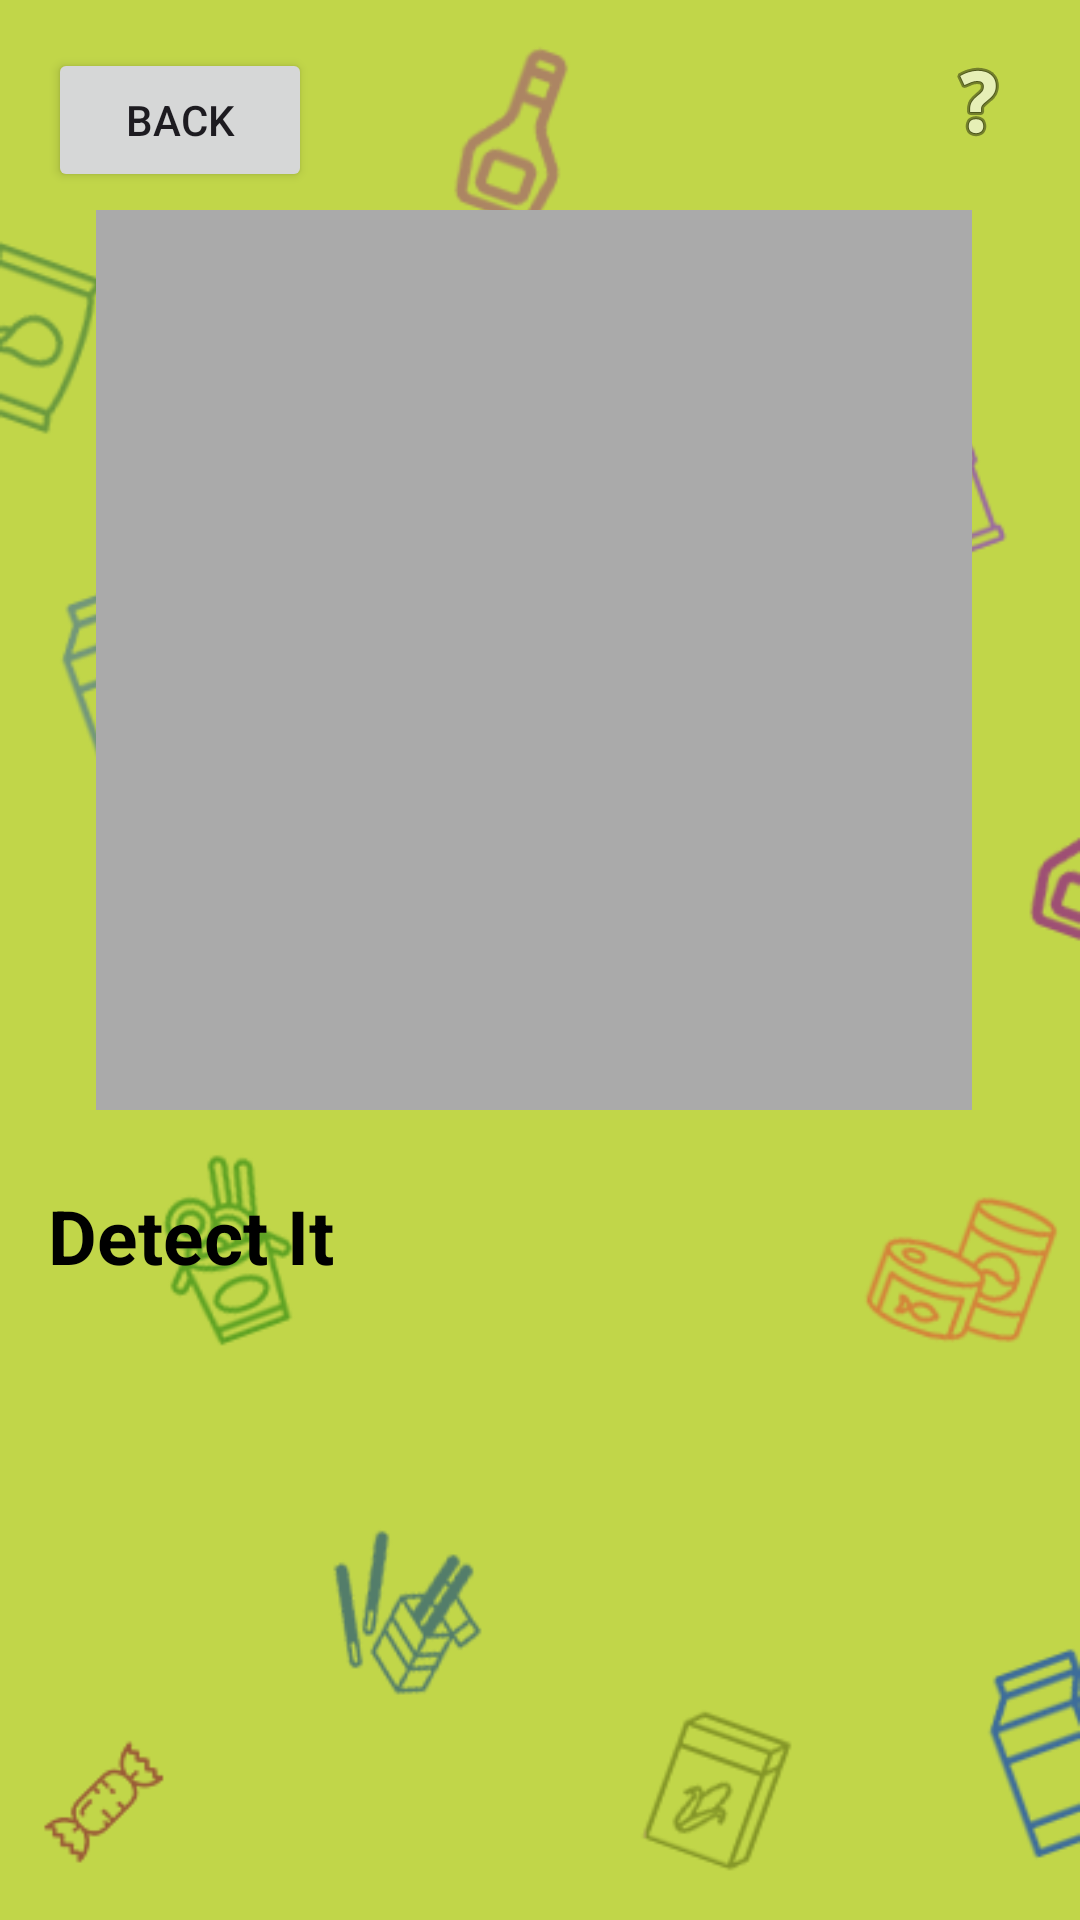

Named icons in this screenshot (1080 x 1920) and their bounding boxes, (x1, y1, x2, y2):
Help: (957, 68, 999, 136)
